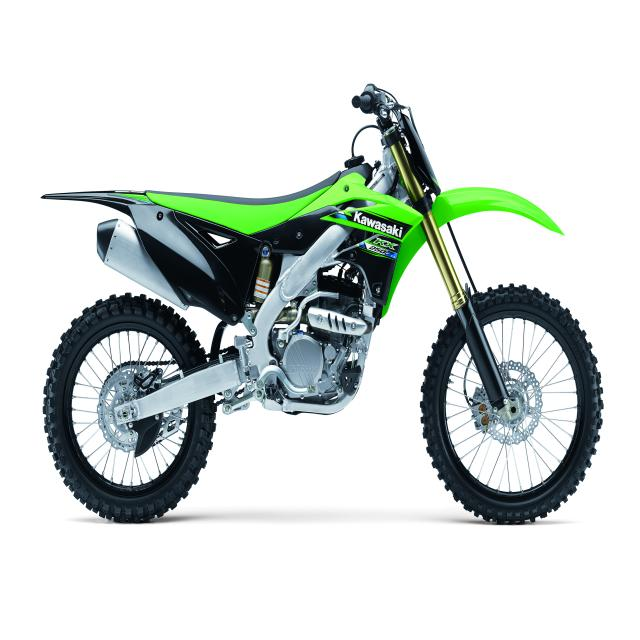Motorcycle: (43, 83, 603, 523)
